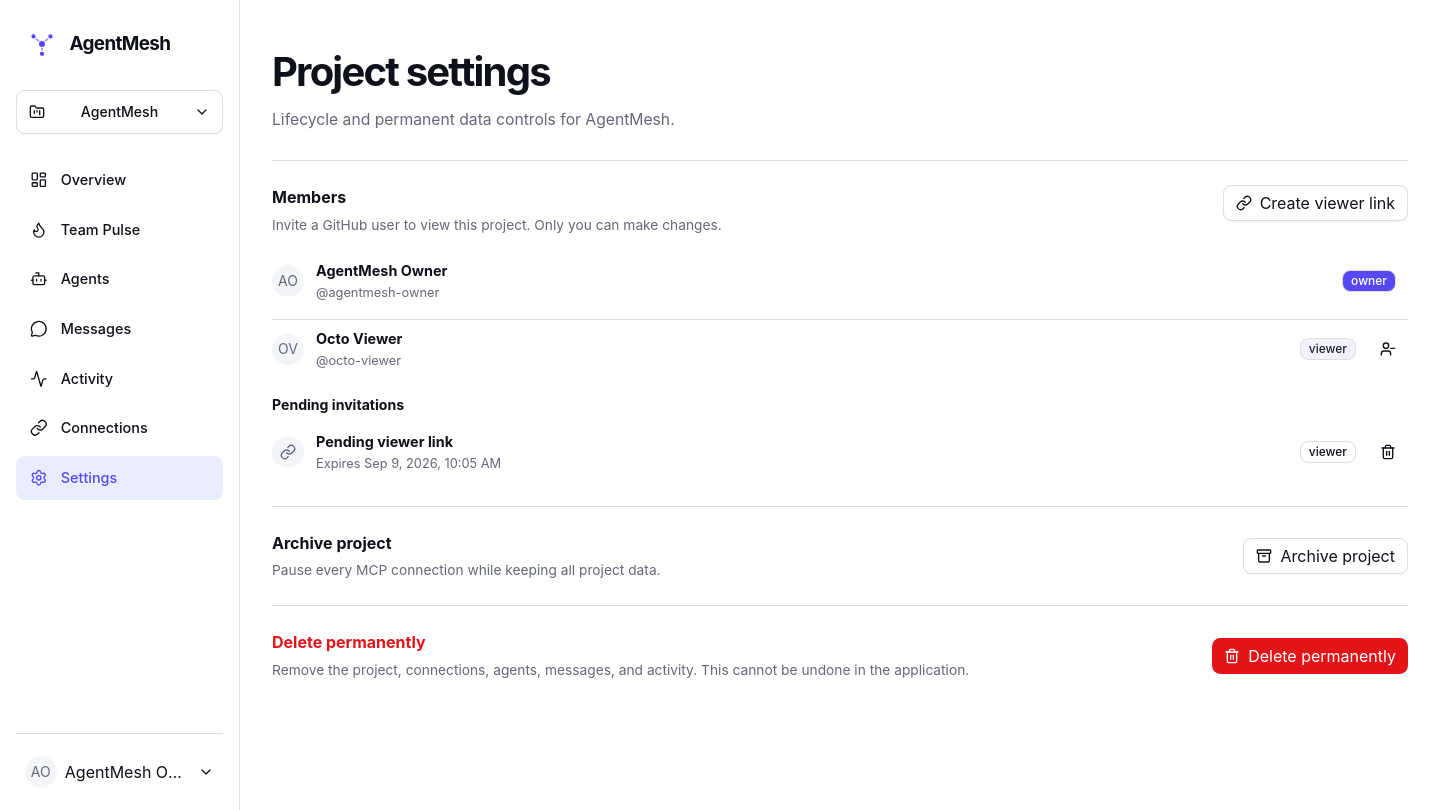
Test: project members settings › shows GitHub members and lets the owner revoke invites or remove viewers
Expected: the text "@octo-viewer" is shown, [316,353,401,368]
Expected: the text "Pending viewer link" is shown, [316,433,453,450]
What coordinates should you click on to do the following:
click the button named "Revoke viewer link"
I would click on:
 (1388, 452)
Its box is [1368,434,1408,470].
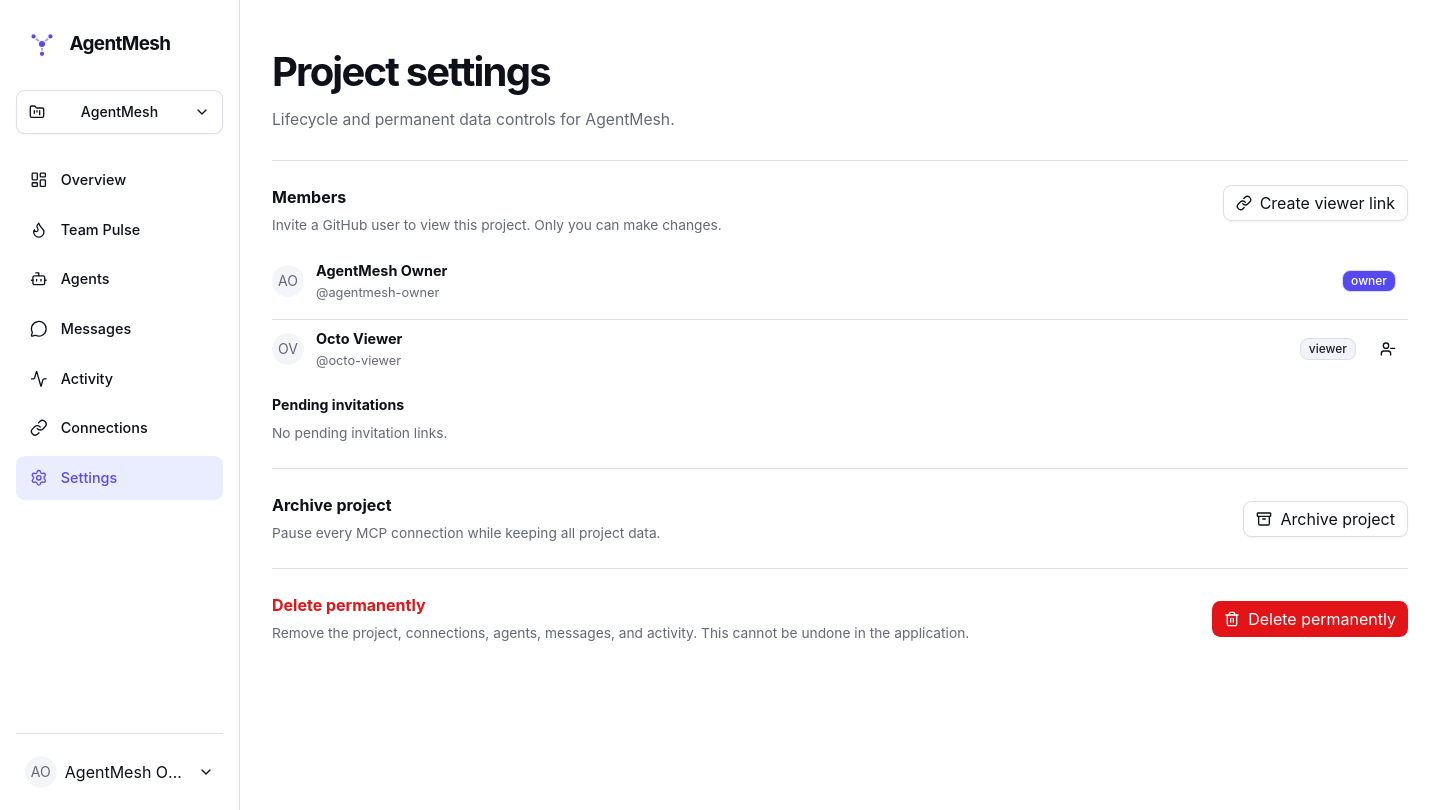
Expected: the text "No pending invitation links." is shown, [272,425,447,441]
What coordinates should you click on to do the following:
click the button named "Remove Octo Viewer"
I would click on:
 (1388, 349)
Its box is [1368,331,1408,367].
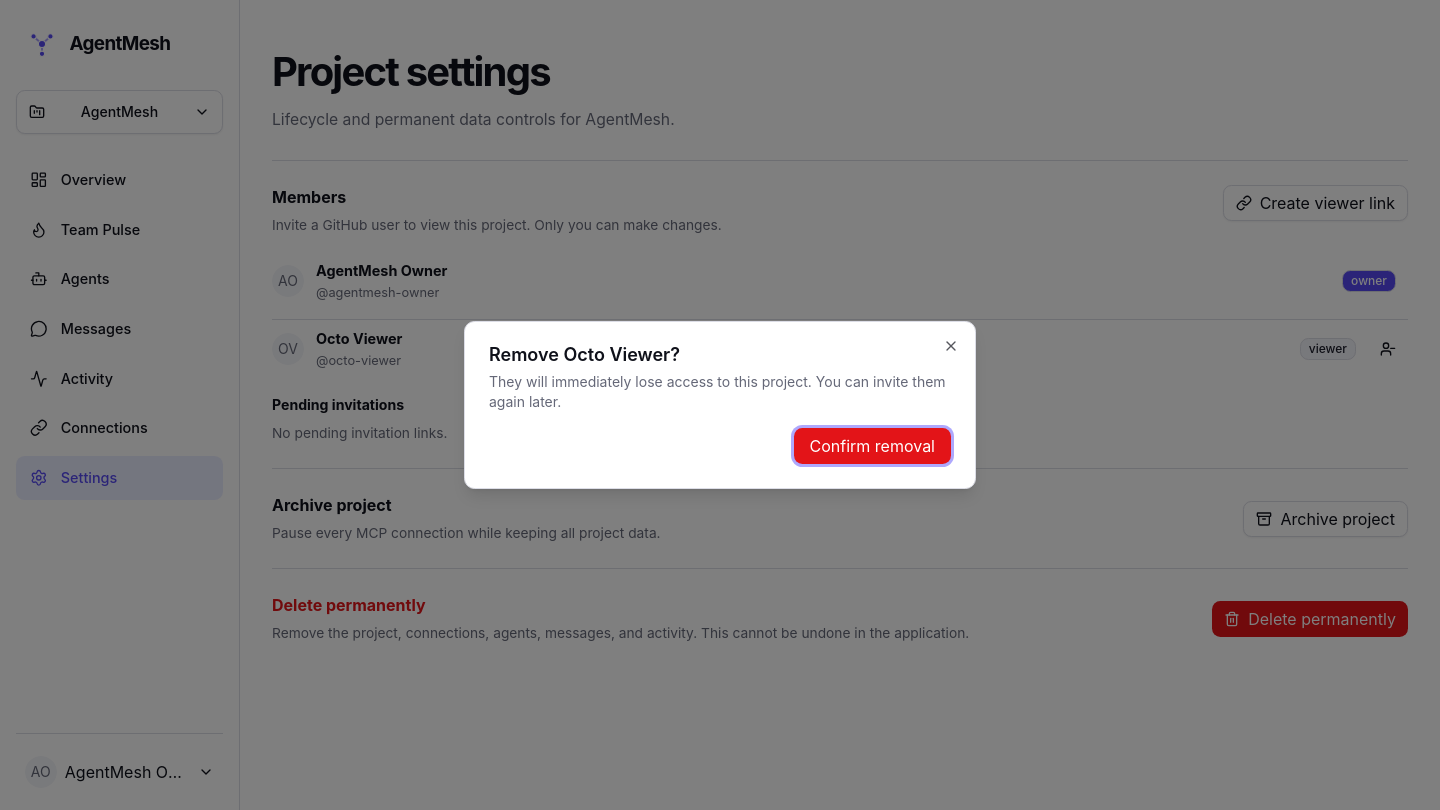
What coordinates should you click on to do the following:
click the button "Confirm removal"
I would click on:
 (872, 446)
Its box is [794,428,951,464].
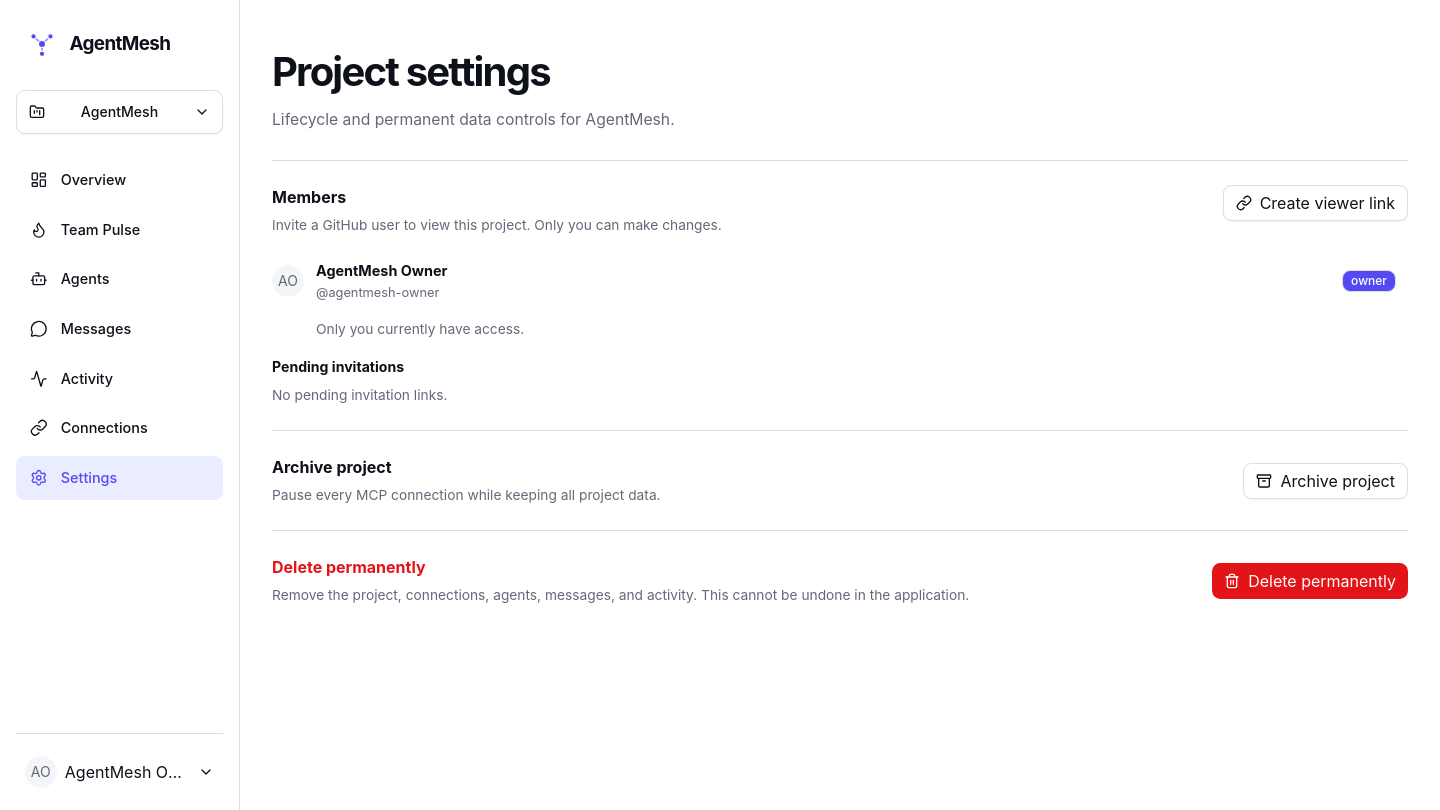
Expected: the text "Only you currently have access." is shown, [316,321,524,337]
